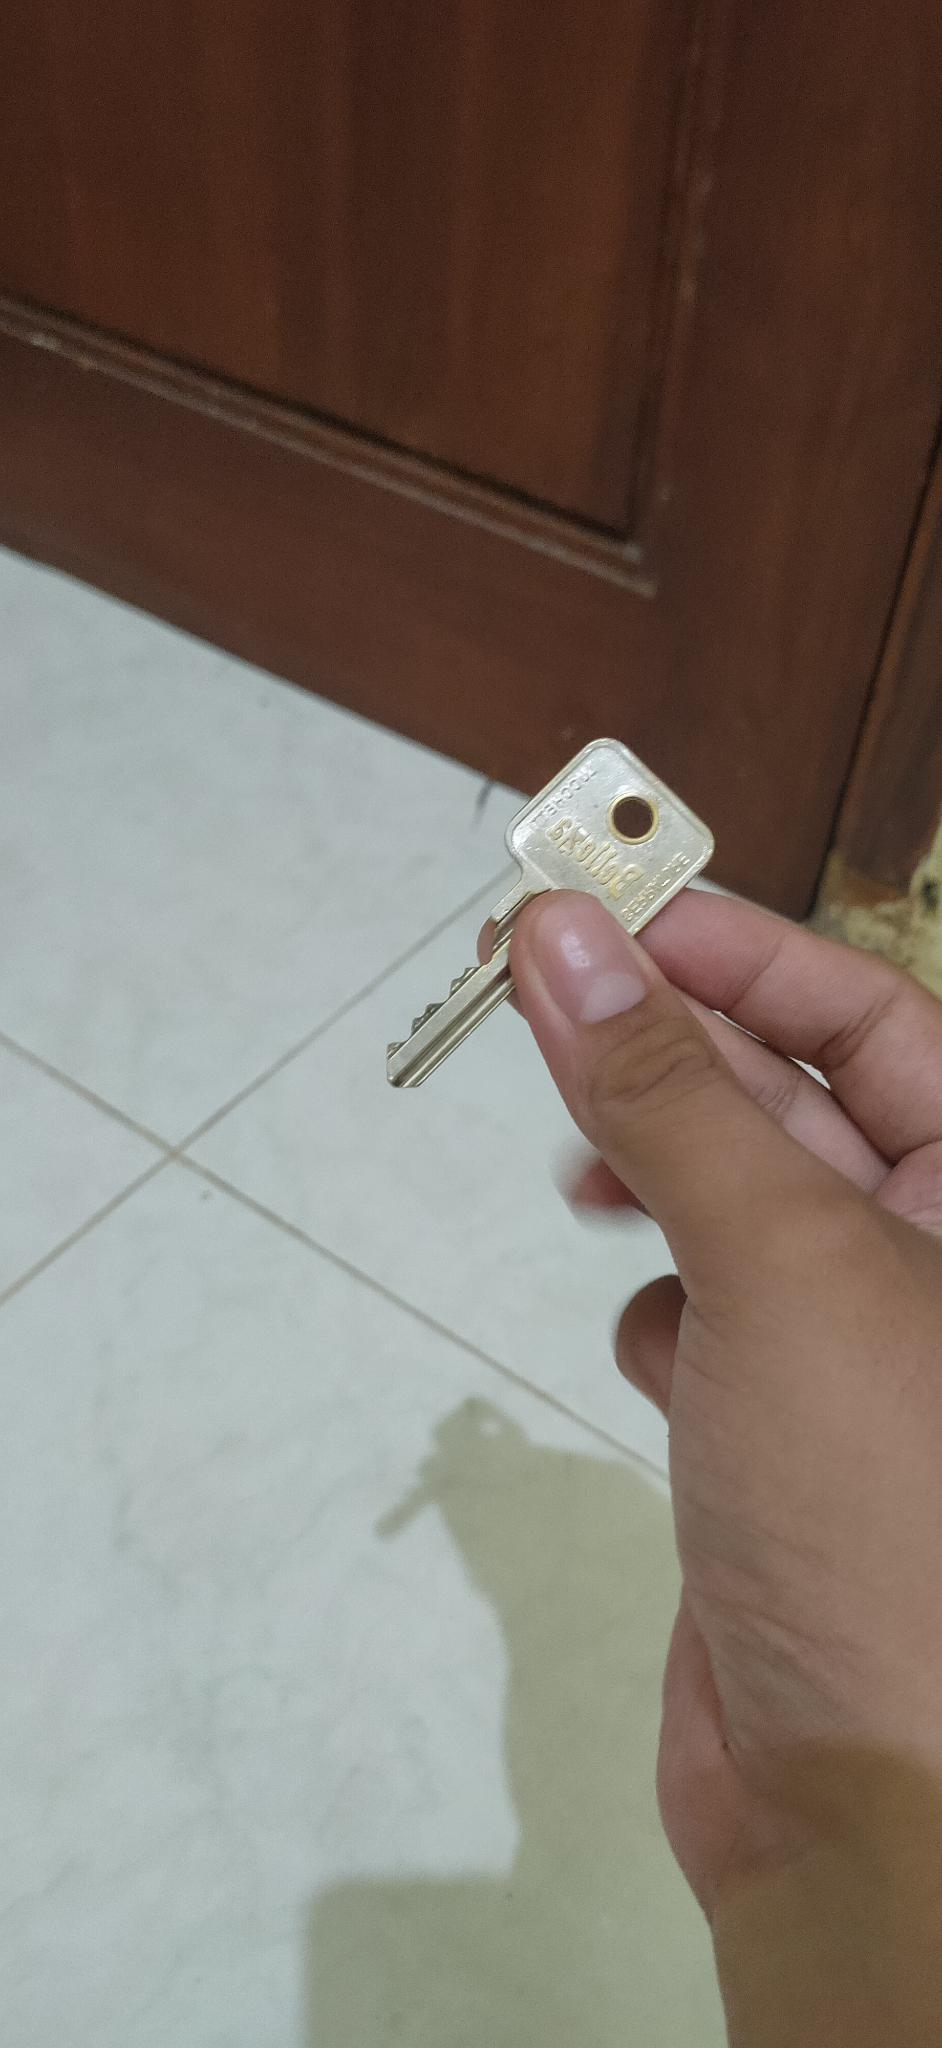keys: (363, 687, 736, 1101)
